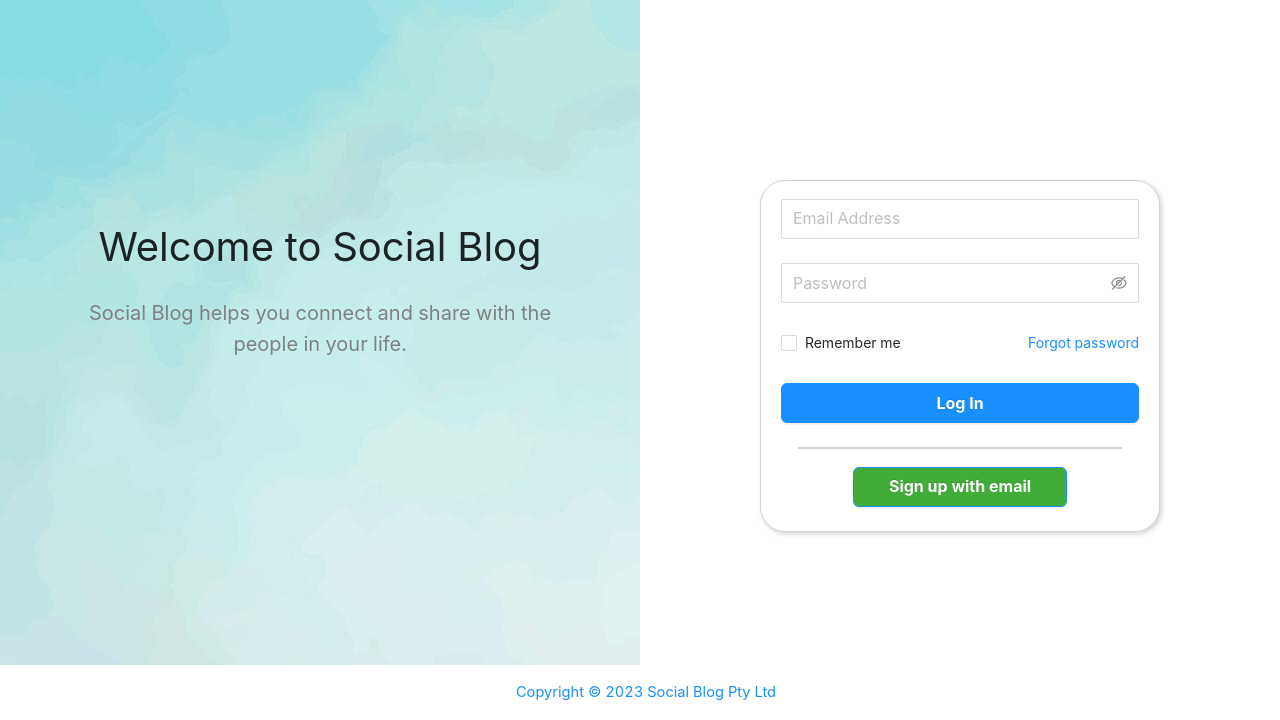
it: sign up button in landing page
Click the button "Sign up with email" at (960, 487), box [852, 467, 1067, 507]
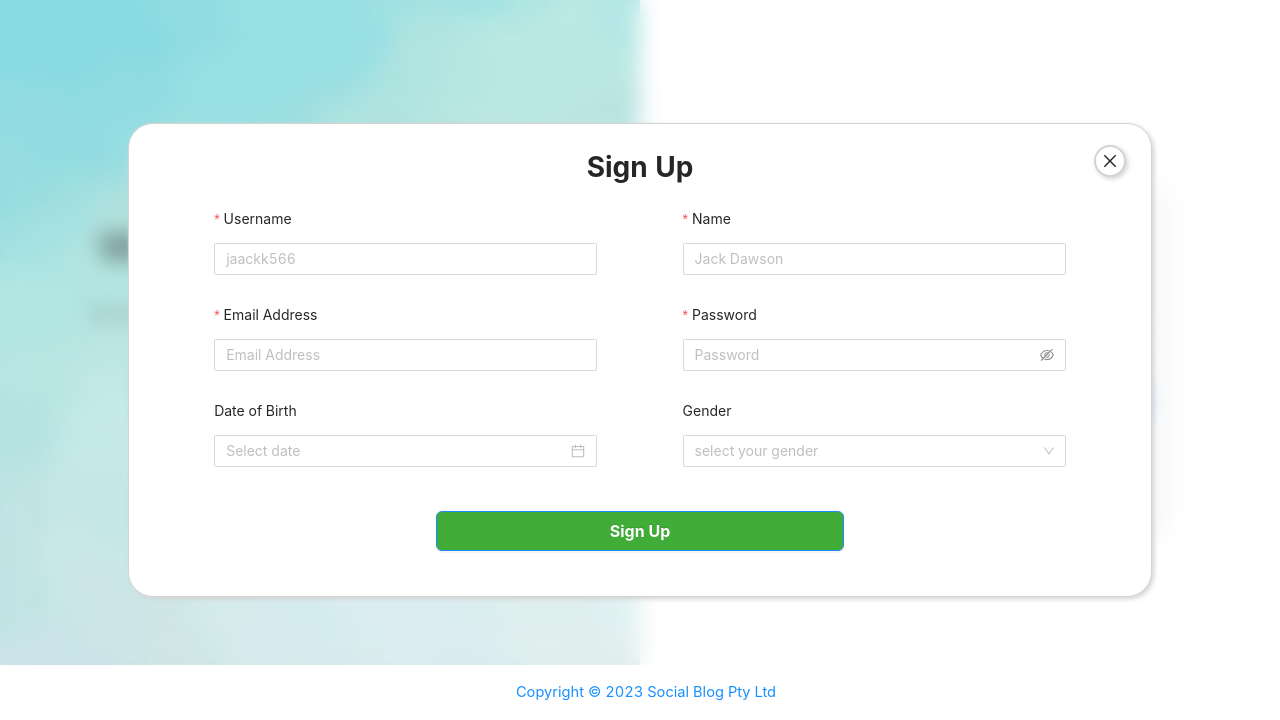
expect the text "Sign Up" is shown 2 times: met, box [587, 150, 693, 184]; [610, 521, 670, 541]
